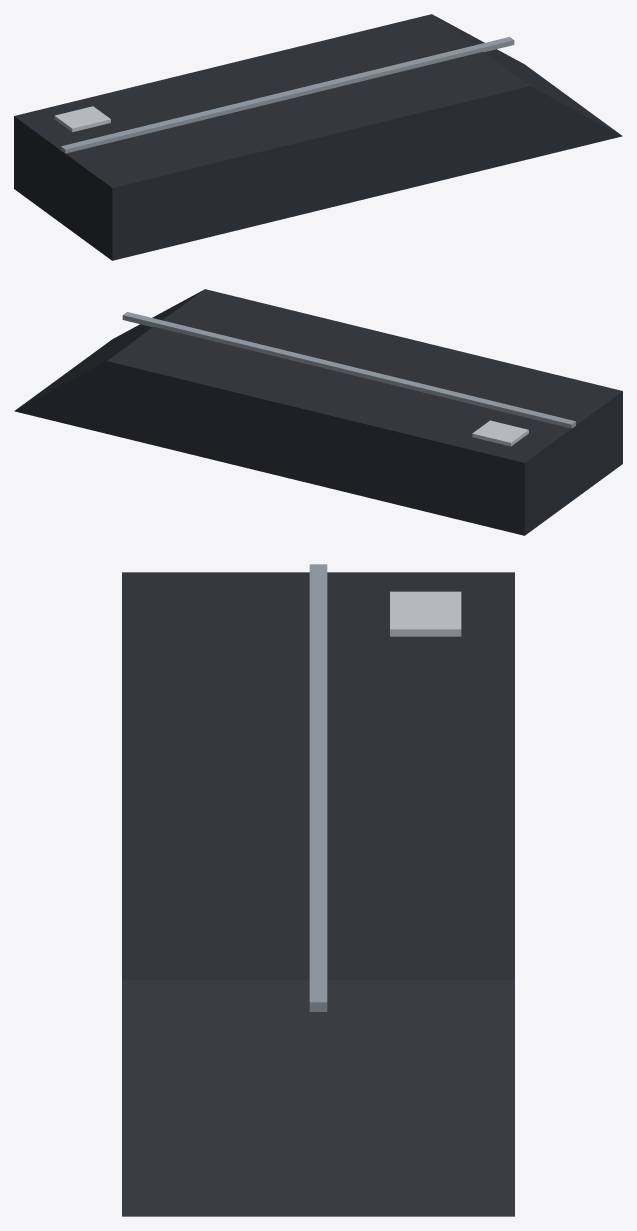
Rendered from prop_body_bag.fbx.
3 views of the same model, one above another, from view 1: azimuth 30°, elevation 25°; view 2: azimuth 150°, elevation 25°; view 3: azimuth 270°, elevation 25° (orthographic). The views are drawn at different scales.
Parts seen in each view (by area): view 1: prop_body_bag; view 2: prop_body_bag; view 3: prop_body_bag.
Boxes of the visible parts, left/top/right/bottom form: prop_body_bag: left=14, top=14, right=622, bottom=260; prop_body_bag: left=14, top=289, right=622, bottom=535; prop_body_bag: left=122, top=564, right=514, bottom=1216.
Bounding box in the file's own units: 660 × 95 × 220.
